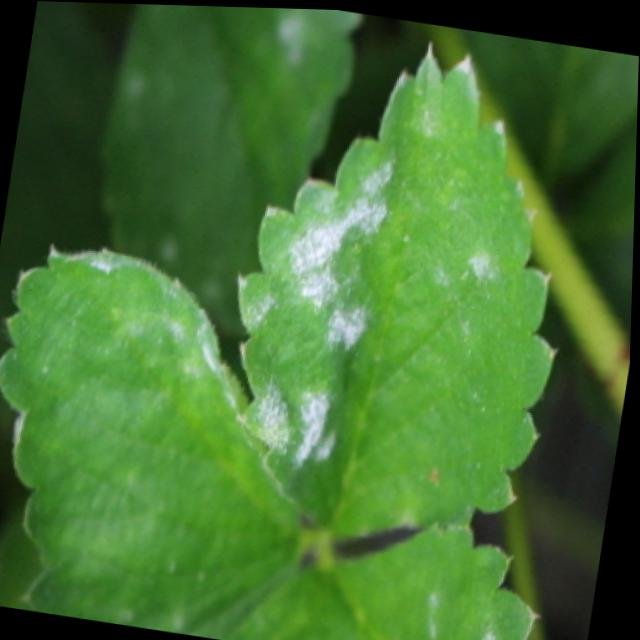Powdery Mildew Leaf: (236, 35, 560, 536), (0, 247, 315, 633), (227, 519, 542, 640)
